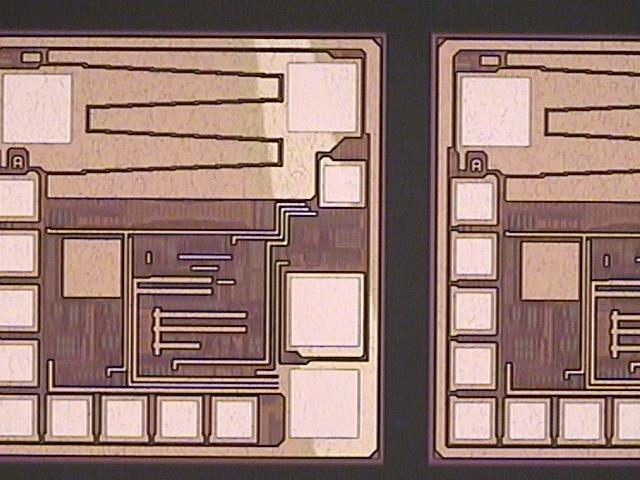COATING BAD: (251, 25, 386, 466)
